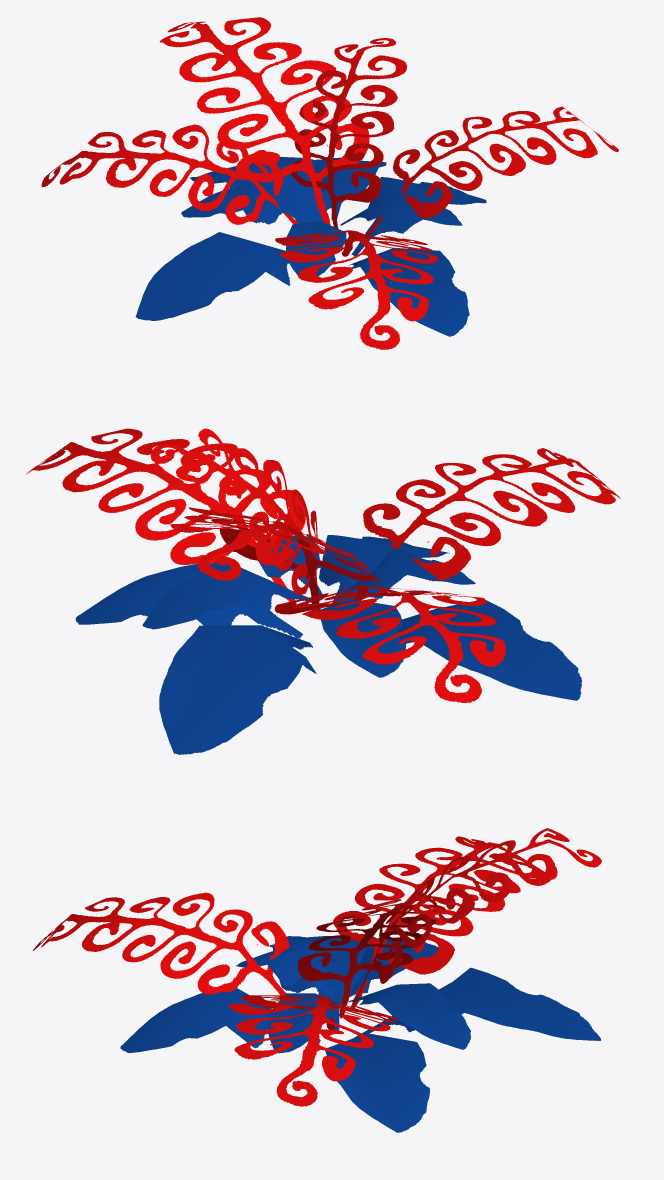
The model's file is SM_FloorFougereBush01.fbx.
3 views of the same model, one above another, from view 1: azimuth 30°, elevation 25°; view 2: azimuth 150°, elevation 25°; view 3: azimuth 270°, elevation 25° (orthographic). The views are drawn at different scales.
Parts seen in each view (by area): view 1: Freehand004; view 2: Freehand004; view 3: Freehand004.
Part boxes in pixels (bbox=[...]): Freehand004: bbox=[41, 17, 618, 349]; Freehand004: bbox=[26, 428, 620, 754]; Freehand004: bbox=[33, 828, 601, 1132].
Size of the model in its own units: 88.31 by 30.51 by 87.13.
